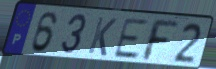2: (172, 22, 204, 65)
3: (59, 12, 89, 58)
6: (30, 11, 59, 55)
E: (111, 17, 150, 61)
F: (141, 18, 181, 64)
K: (86, 15, 119, 58)
